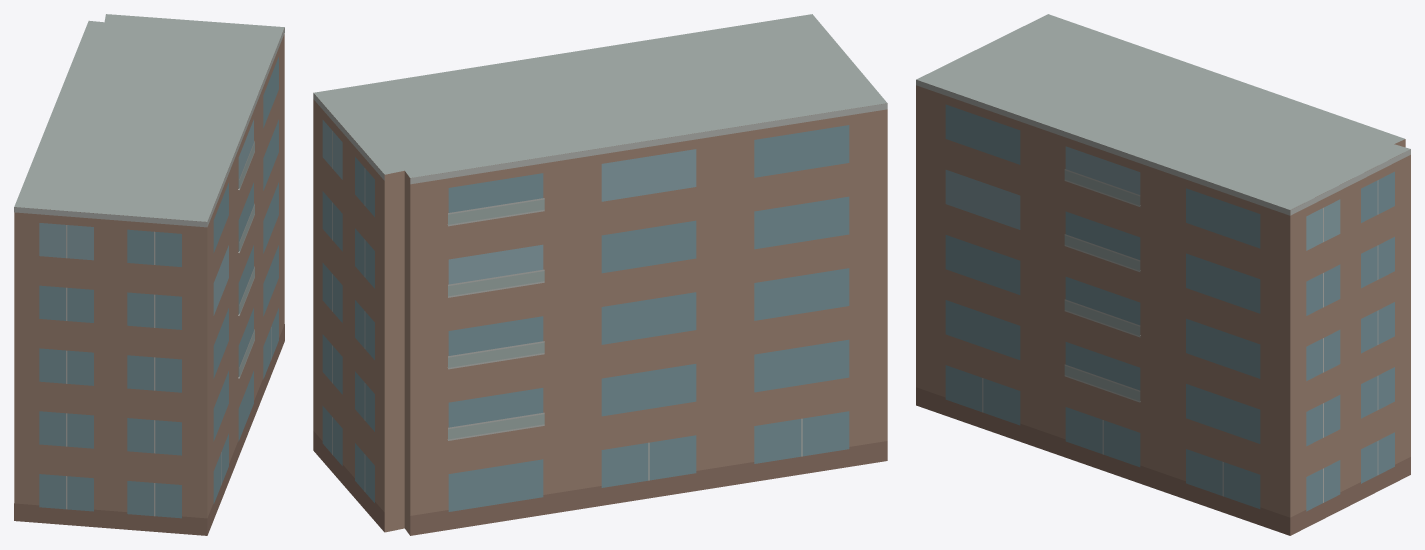
The model's file is survey-upis-32992320.glb.
The picture shows the model from 3 angles, left to right: view 1: azimuth 30°, elevation 25°; view 2: azimuth 150°, elevation 25°; view 3: azimuth 270°, elevation 25°; orthographic projection. The views are drawn at different scales.
Visible parts, largest first — view 1: survey-upis-32992320.tmp; view 2: survey-upis-32992320.tmp; view 3: survey-upis-32992320.tmp.
Boxes of the visible parts, x1,y1,x2,y2 form: survey-upis-32992320.tmp: [14, 14, 284, 535]; survey-upis-32992320.tmp: [313, 14, 887, 535]; survey-upis-32992320.tmp: [916, 14, 1410, 535].
Bounding box in the file's own units: 18.08 × 14 × 19.28.
